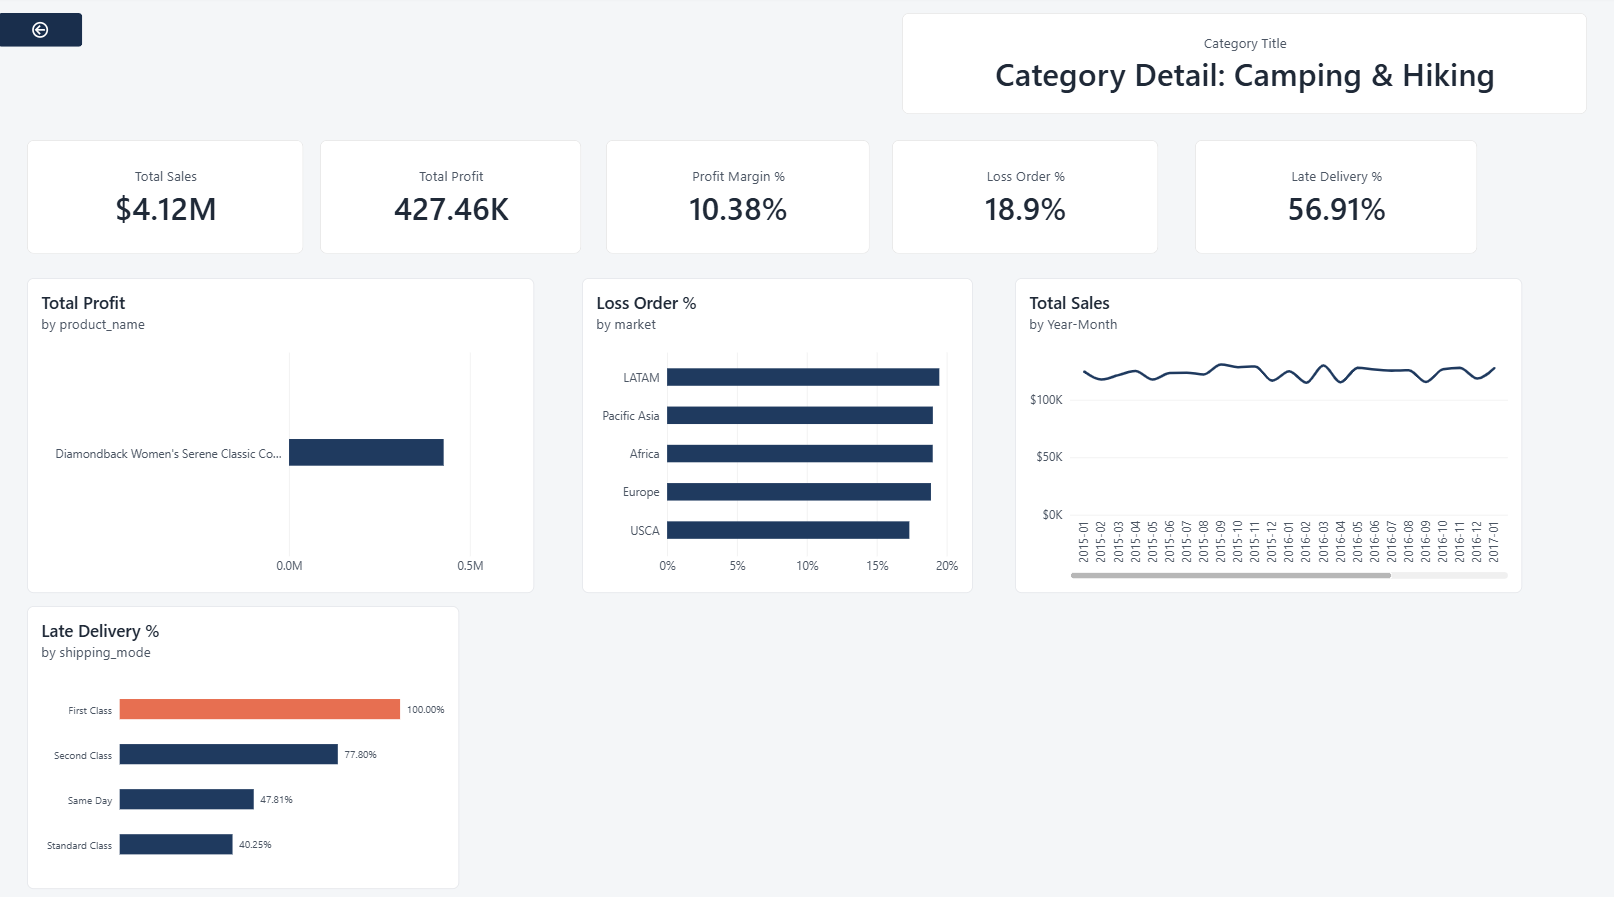

What the dashboard file says about the page in this screenshot:
{"tool":"powerbi","page":{"name":"Category Detail","canvas":[1920,1080],"ordinal":3},"visuals":[{"type":"actionButton","box":[0,20.3,100,40],"z":0},{"type":"cardVisual","fields":{"Data":["_Measures.Category Title"]},"box":[1072.4,20.3,813.2,120.7],"z":1000},{"type":"cardVisual","fields":{"Data":["_Measures.Total Sales"]},"box":[33.9,170.9,328.6,135.6],"z":2000},{"type":"cardVisual","fields":{"Data":["_Measures.Total Profit"]},"box":[381.6,170.9,310.9,135.6],"z":3000},{"type":"cardVisual","fields":{"Data":["_Measures.Profit Margin %"]},"box":[722,170.9,313.9,135.6],"z":4000},{"type":"cardVisual","fields":{"Data":["_Measures.Loss Order %"]},"box":[1060.9,170.9,316.8,135.6],"z":5000},{"type":"cardVisual","fields":{"Data":["_Measures.Late Delivery %"]},"box":[1420.5,170.9,336,135.6],"z":6000},{"type":"clusteredBarChart","fields":{"Category":["dataco_orders.product_name"],"Y":["_Measures.Total Profit"]},"box":[33.9,334.5,601.6,373.7],"z":7000},{"type":"clusteredBarChart","fields":{"Category":["dataco_orders.market"],"Y":["_Measures.Loss Order %"]},"box":[692.6,334.5,463.8,373.7],"z":8000},{"type":"lineChart","fields":{"Category":["Date.Year-Month"],"Y":["_Measures.Total Sales"]},"box":[1206.8,334.5,602,374],"z":9000},{"type":"clusteredBarChart","fields":{"Category":["dataco_orders.shipping_mode"],"Y":["_Measures.Late Delivery %"]},"box":[33.9,723.5,512.8,336],"z":10000}]}

Visuals, with their boxes in screenshot pixels (x1, y1, x2, y2), scaled from the page's 1920x1080 canvas onto the 1614x897 screenshot:
actionButton: <region>0, 17, 84, 50</region>
cardVisual - _Measures.Category Title: <region>901, 17, 1585, 117</region>
cardVisual - _Measures.Total Sales: <region>28, 142, 305, 255</region>
cardVisual - _Measures.Total Profit: <region>321, 142, 582, 255</region>
cardVisual - _Measures.Profit Margin %: <region>607, 142, 871, 255</region>
cardVisual - _Measures.Loss Order %: <region>892, 142, 1158, 255</region>
cardVisual - _Measures.Late Delivery %: <region>1194, 142, 1477, 255</region>
clusteredBarChart - dataco_orders.product_name x _Measures.Total Profit: <region>28, 278, 534, 588</region>
clusteredBarChart - dataco_orders.market x _Measures.Loss Order %: <region>582, 278, 972, 588</region>
lineChart - Date.Year-Month x _Measures.Total Sales: <region>1014, 278, 1521, 588</region>
clusteredBarChart - dataco_orders.shipping_mode x _Measures.Late Delivery %: <region>28, 601, 460, 880</region>
